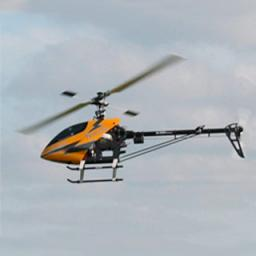helicopter: (18, 53, 247, 184)
